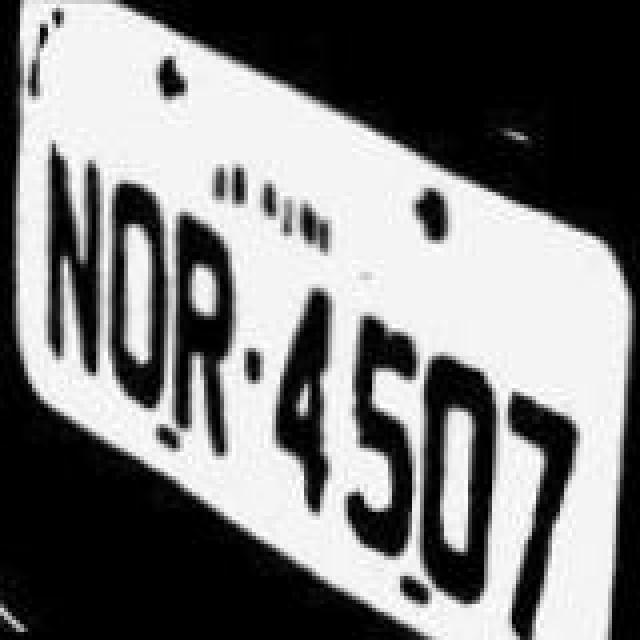4: (262, 258, 338, 530)
5: (340, 284, 424, 556)
7: (494, 360, 586, 640)
N: (30, 122, 106, 382)
O: (412, 290, 504, 602), (94, 164, 174, 416)
R: (164, 202, 248, 450)
